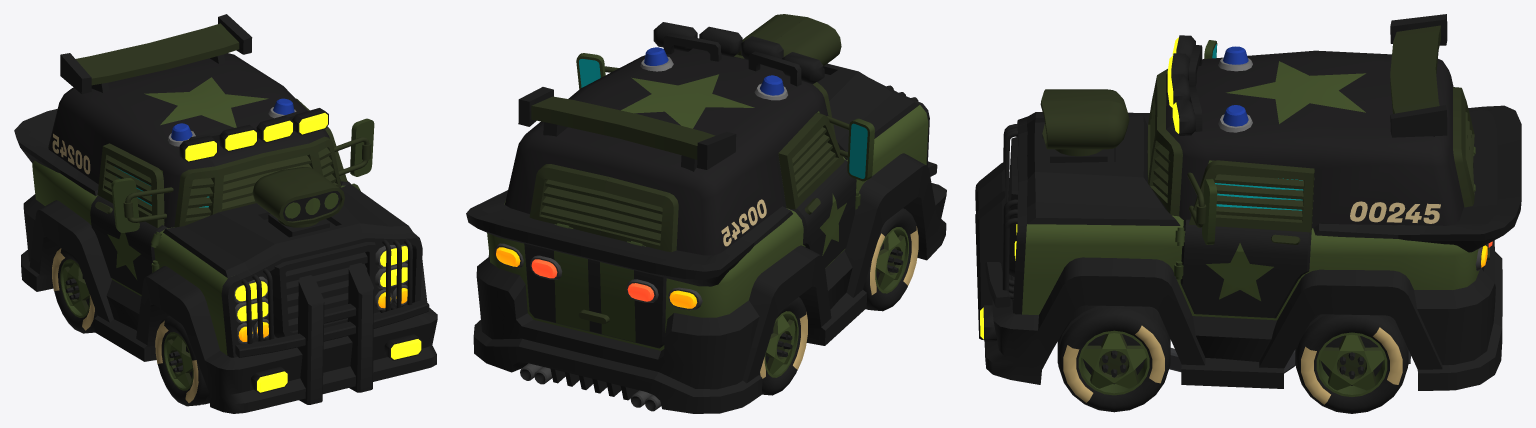
The model's file is SVehicle014.fbx.
3 views of the same model, side by side, from view 1: azimuth 30°, elevation 25°; view 2: azimuth 150°, elevation 25°; view 3: azimuth 270°, elevation 25° (orthographic). The views are drawn at different scales.
Parts seen in each view (by area): view 1: SVehicle014, SV014_FR, SV014_BR; view 2: SVehicle014, SV014_FR, SV014_BR; view 3: SVehicle014, SV014_FL, SV014_BL.
Boxes of the visible parts, x1,y1,x2,y2 form: SVehicle014: (14, 14, 437, 413); SV014_FR: (155, 315, 209, 406); SV014_BR: (52, 247, 97, 333); SVehicle014: (466, 14, 946, 413); SV014_FR: (863, 208, 918, 311); SV014_BR: (759, 297, 807, 395); SVehicle014: (975, 14, 1521, 390); SV014_FL: (1057, 305, 1170, 412); SV014_BL: (1295, 314, 1408, 413).
Bounding box in the file's own units: 281 × 249 × 430.
1 material, 1 textured.
